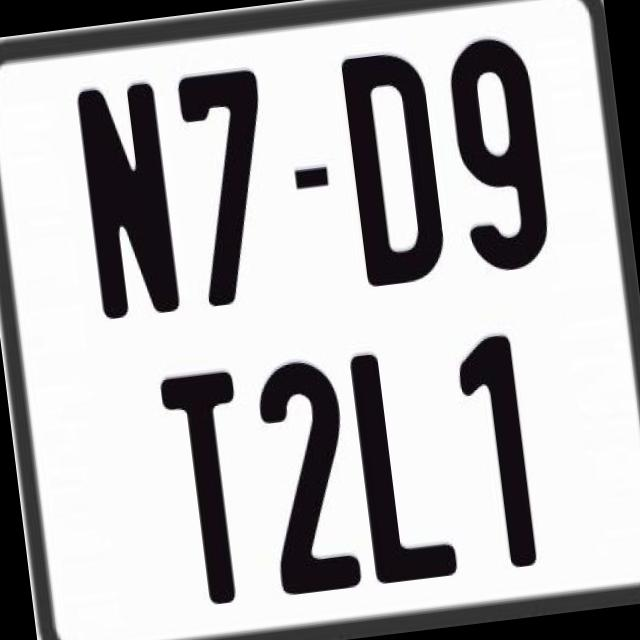1: (452, 333, 538, 572)
2: (253, 355, 364, 597)
7: (174, 67, 284, 307)
9: (441, 31, 554, 278)
D: (340, 44, 452, 285)
L: (346, 342, 461, 580)
N: (74, 76, 180, 321)
T: (159, 370, 262, 608)
